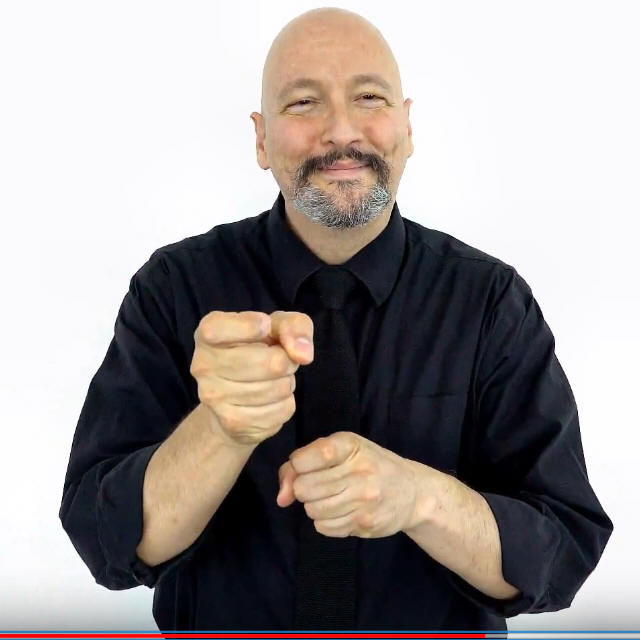joke: (181, 301, 414, 557)
